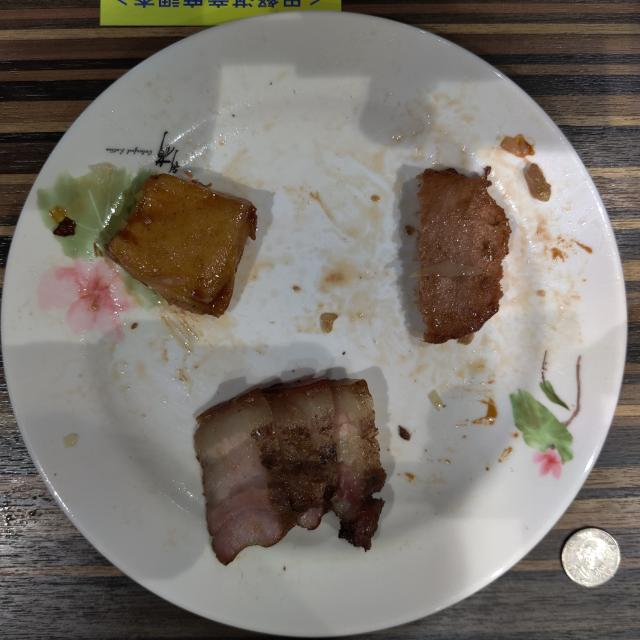Spam: (415, 166, 511, 344)
coin: (561, 529, 620, 586)
creamy tofu: (106, 174, 256, 316)
red grilled pork: (195, 379, 385, 564)
